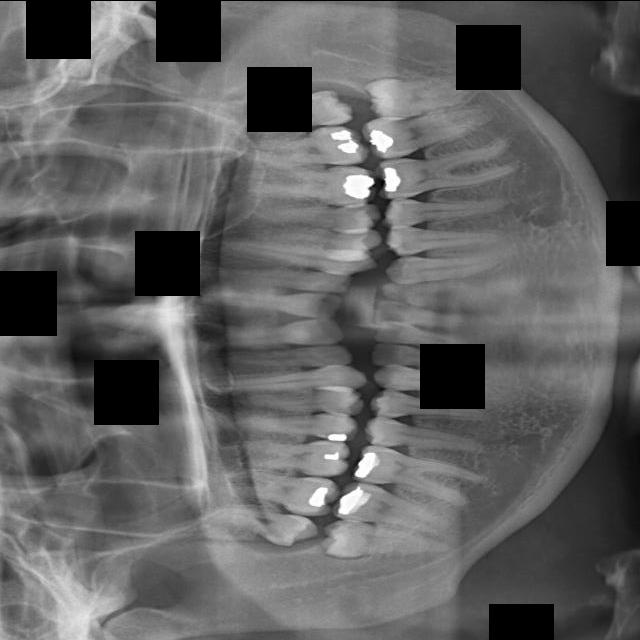3M ESPE Implant: (198, 498, 321, 551)
AGS Medikal Implant: (483, 111, 484, 111)
AMerOss Implant: (371, 129, 529, 207)
Amalgam filling: (223, 468, 340, 518)
Anthogyr Implant: (381, 196, 514, 225)
Bicon Implant: (385, 225, 507, 255)
BioHorizons Implant: (383, 243, 519, 286)
BioLife Implant: (378, 276, 493, 309)
Biomet 3i Implant: (371, 299, 469, 335)
Blue Sky Bio Implant: (372, 319, 471, 352)
Camlog Implant: (368, 342, 468, 367)
Caries: (206, 261, 354, 294)
Composite filling: (370, 361, 509, 402)
Cowellmedi Implant: (367, 388, 491, 426)
Crown: (363, 416, 488, 457)
DENTSPLY Implant: (216, 432, 352, 478)
Dentatus Implant: (350, 440, 489, 509)
Dentis Implant: (429, 523, 430, 524)
Dentium Implant: (321, 518, 453, 564)
Euroteknika Implant: (224, 402, 359, 442)
Filling: (239, 382, 366, 415)
Frontier Implant: (196, 363, 368, 394)
Hiossen Implant: (216, 237, 381, 275)
Implant: (198, 317, 344, 347)
Implant Direct: (213, 344, 354, 371)
Keystone Dental Implant: (193, 288, 344, 318)
MIS Implant: (246, 225, 382, 250)
Mandible: (244, 202, 381, 234)
Maxilla: (243, 159, 376, 207)
Megagen Implant: (241, 121, 370, 164)
Neodent Implant: (233, 85, 355, 137)
Neoss Implant: (471, 80, 472, 81)
